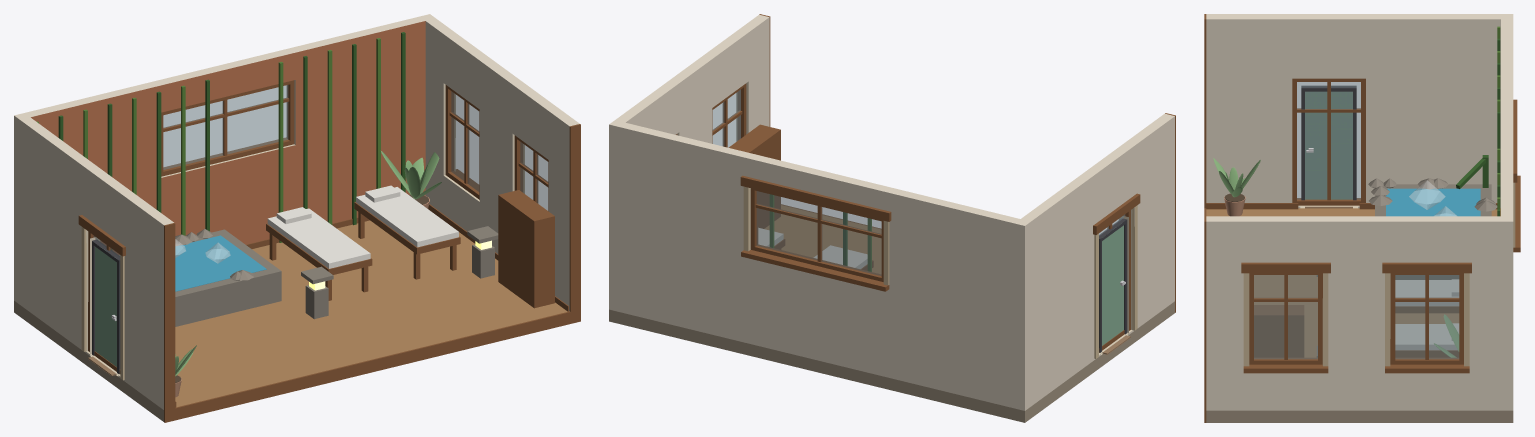
The model's file is map-spa.glb.
3 renders of one model, left to right at view 1: azimuth 30°, elevation 25°; view 2: azimuth 150°, elevation 25°; view 3: azimuth 270°, elevation 25°, orthographic. The views are drawn at different scales.
Visible parts, largest first — view 1: Walls, Floor_Slab, Spa_Deco, Windows_Glass, Massage_Beds, Onsen_Tub, Door_Entrance_Leaf, Plant_Living, Door_Entrance; view 2: Walls, Floor_Slab, Windows_Glass, Spa_Deco, Door_Entrance_Leaf, Door_Entrance, Massage_Beds; view 3: Walls, Windows_Glass, Floor_Slab, Onsen_Tub, Door_Entrance_Leaf, Massage_Beds, Spa_Deco, Door_Entrance, Plant_Loft_A, Plant_Living.
Boxes of the visible parts, <box> form: Walls: <box>14,14,580,422</box>; Floor_Slab: <box>14,220,569,421</box>; Spa_Deco: <box>37,32,554,319</box>; Windows_Glass: <box>93,85,548,256</box>; Massage_Beds: <box>266,185,460,300</box>; Onsen_Tub: <box>119,229,281,326</box>; Door_Entrance_Leaf: <box>95,246,116,366</box>; Plant_Living: <box>381,151,441,208</box>; Door_Entrance: <box>88,239,120,375</box>; Walls: <box>609,14,1175,410</box>; Floor_Slab: <box>609,205,1174,422</box>; Windows_Glass: <box>712,89,1125,275</box>; Spa_Deco: <box>728,124,871,271</box>; Door_Entrance_Leaf: <box>1102,225,1125,345</box>; Door_Entrance: <box>1099,218,1130,354</box>; Massage_Beds: <box>758,228,873,270</box>; Walls: <box>1204,14,1520,422</box>; Windows_Glass: <box>1254,82,1459,359</box>; Floor_Slab: <box>1206,208,1513,422</box>; Onsen_Tub: <box>1368,155,1497,279</box>; Door_Entrance_Leaf: <box>1305,91,1352,199</box>; Massage_Beds: <box>1395,279,1459,357</box>; Spa_Deco: <box>1254,26,1500,357</box>; Door_Entrance: <box>1301,85,1356,208</box>; Plant_Loft_A: <box>1213,158,1260,216</box>; Plant_Living: <box>1434,314,1459,357</box>.
Bounding box in the file's own units: 8.2 × 3.62 × 5.15.
